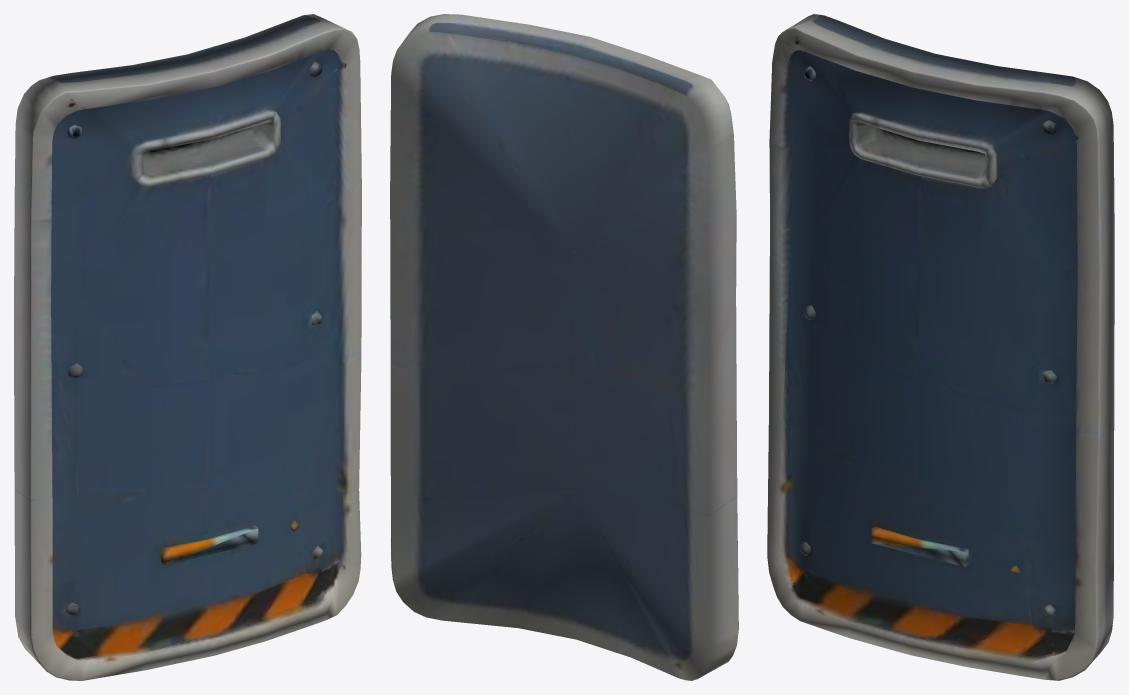
File: s_shield_crest.fbx
3 views of the same model, side by side, from view 1: azimuth 30°, elevation 25°; view 2: azimuth 150°, elevation 25°; view 3: azimuth 330°, elevation 25° (orthographic).
Parts seen in each view (by area): view 1: tripo_node_598ce32c-a5a7-4877-a8bc-aef545b9b017; view 2: tripo_node_598ce32c-a5a7-4877-a8bc-aef545b9b017; view 3: tripo_node_598ce32c-a5a7-4877-a8bc-aef545b9b017.
Part boxes in pixels (bbox=[...]): tripo_node_598ce32c-a5a7-4877-a8bc-aef545b9b017: bbox=[14, 14, 361, 680]; tripo_node_598ce32c-a5a7-4877-a8bc-aef545b9b017: bbox=[390, 14, 738, 680]; tripo_node_598ce32c-a5a7-4877-a8bc-aef545b9b017: bbox=[767, 14, 1114, 680].
Size of the model in its own units: 0.5629 by 0.95 by 0.1304.
Materials: 1 (1 with a texture image).
